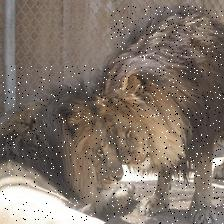Lion: (111, 6, 224, 224), (0, 66, 121, 224)
